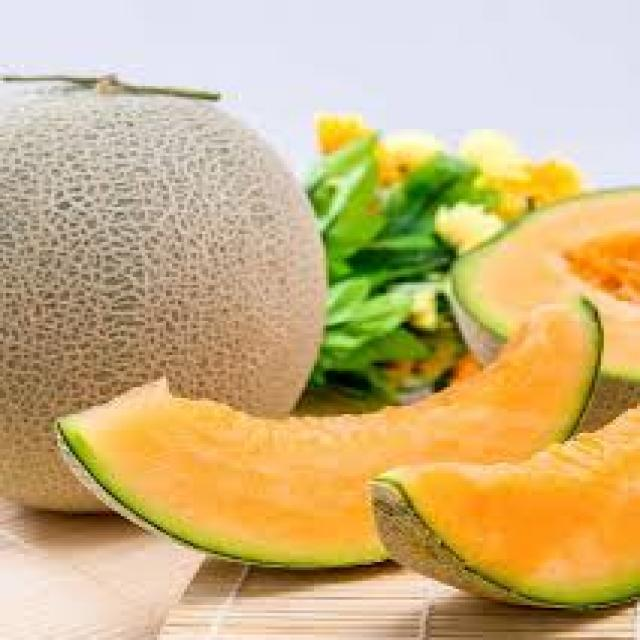Hami Melon: (56, 300, 600, 571), (0, 81, 326, 511)
